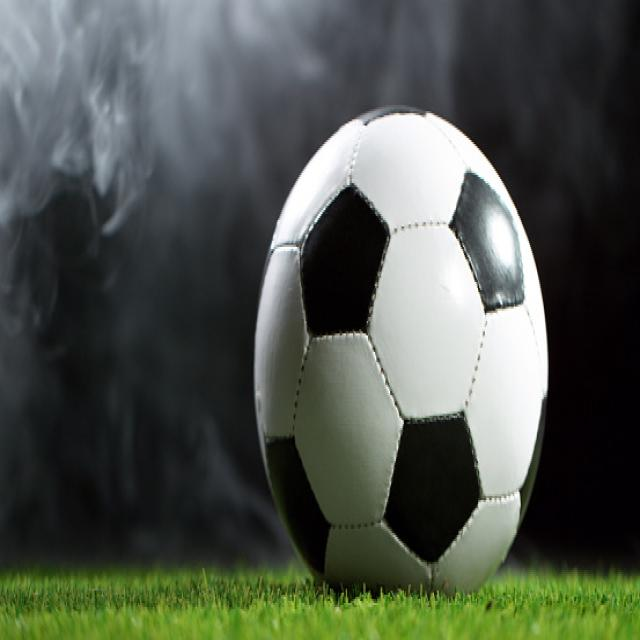soccer ball: (256, 107, 551, 607)
